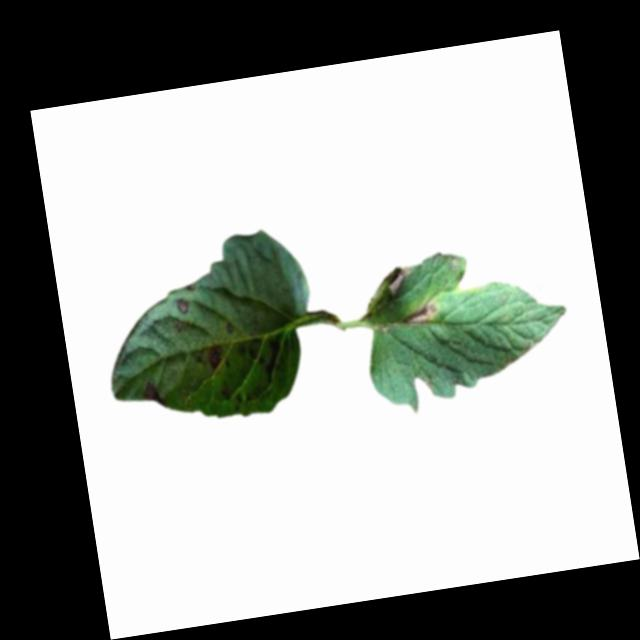Early_blight: (403, 298, 442, 329), (385, 261, 414, 295), (141, 380, 163, 405), (206, 341, 223, 371), (173, 298, 190, 317)
